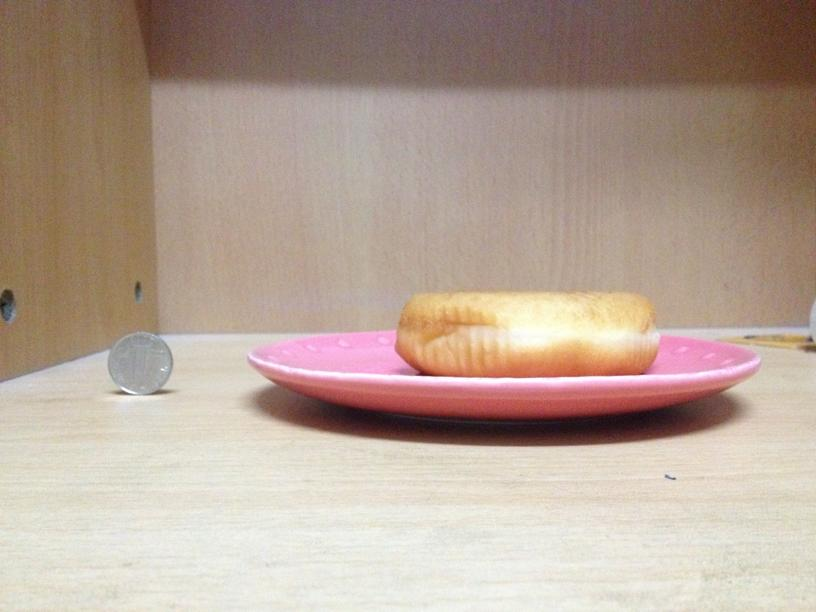coin: (107, 332, 173, 395)
doughnut: (395, 286, 661, 375)
